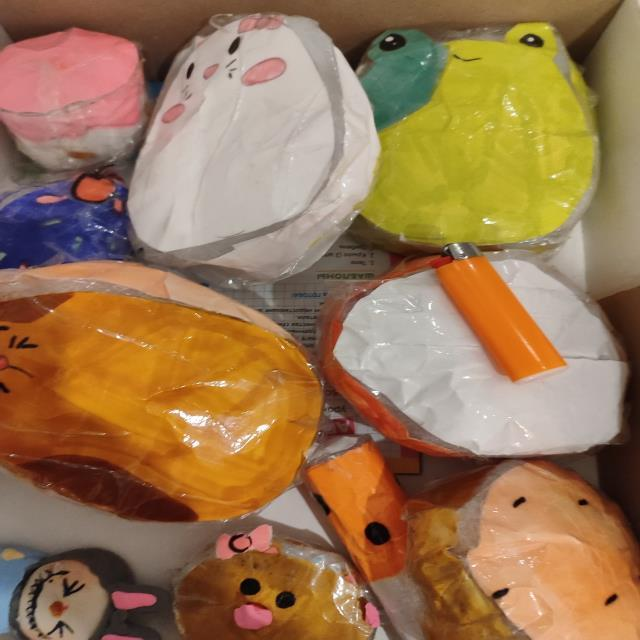lighter: (435, 243, 566, 381)
